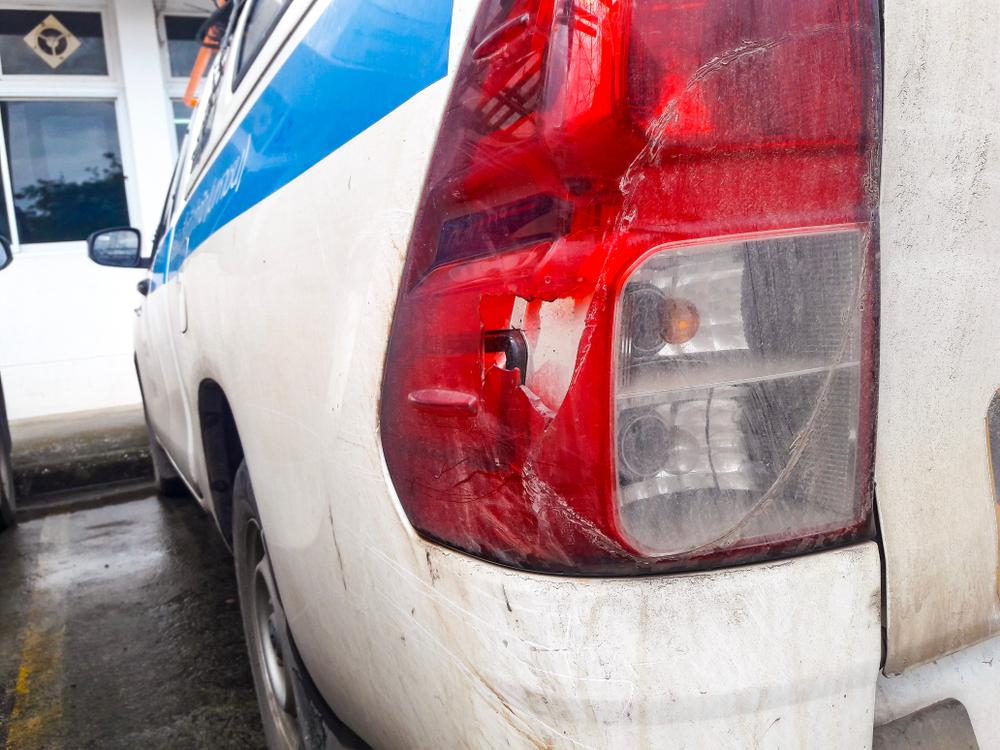lamp broken: (380, 0, 884, 577)
